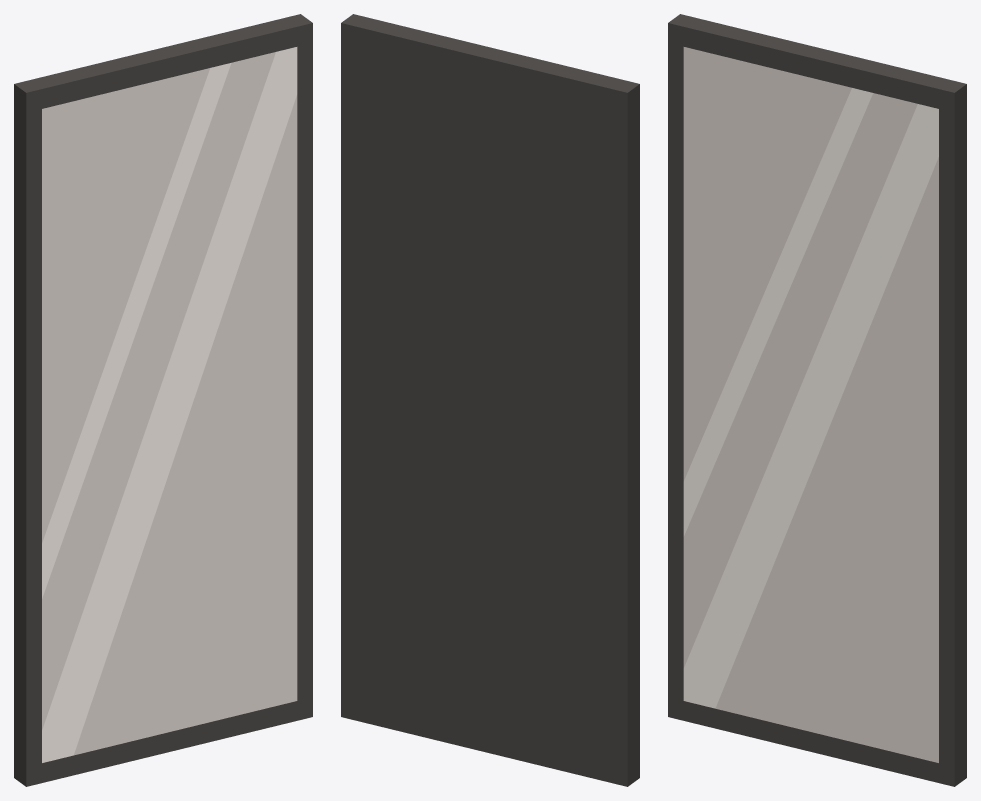
File: Mirror.glb
3 renders of one model, left to right at view 1: azimuth 30°, elevation 25°; view 2: azimuth 150°, elevation 25°; view 3: azimuth 330°, elevation 25°, orthographic.
Visible parts, largest first — view 1: SI_Prop_Mirror_01; view 2: SI_Prop_Mirror_01; view 3: SI_Prop_Mirror_01.
Part boxes in pixels (x1,y1,x2,y2): SI_Prop_Mirror_01: (14,14,312,786); SI_Prop_Mirror_01: (341,14,639,786); SI_Prop_Mirror_01: (668,14,966,786).
Size of the model in its own units: 0.0171 by 0.0395 by 0.00126.
Materials: 1 (1 with a texture image).
